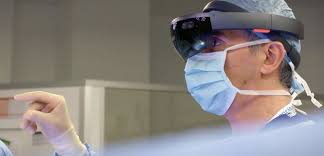hololens: (169, 9, 308, 64)
